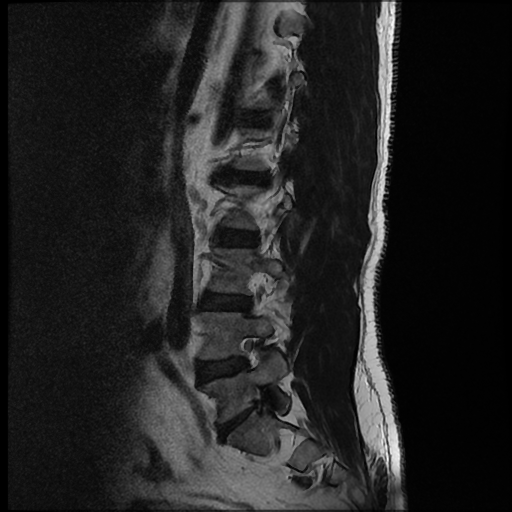RFS0: (233, 329, 272, 380)
